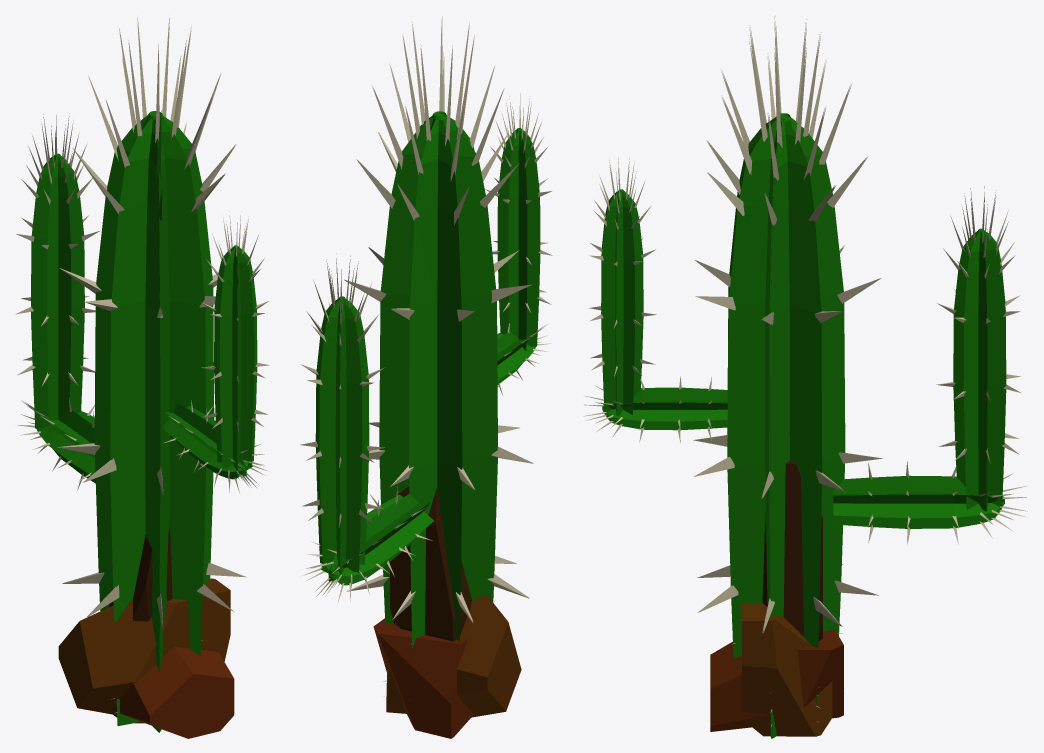
File: cactus.glb
3 views of the same model, side by side, from view 1: azimuth 30°, elevation 25°; view 2: azimuth 150°, elevation 25°; view 3: azimuth 270°, elevation 25° (orthographic).
Visible parts, largest first — view 1: cactus4, rock1, cactus3, rock2, rock3; view 2: cactus3, cactus4, rock2, rock1, rock3; view 3: cactus4, cactus3, rock1, rock2, rock3.
Boxes of the visible parts, left/top/right/bottom form: cactus4: left=15, top=18, right=269, bottom=732; rock1: left=58, top=578, right=230, bottom=715; cactus3: left=58, top=19, right=245, bottom=732; rock2: left=111, top=646, right=234, bottom=738; rock3: left=109, top=526, right=172, bottom=723; cactus3: left=344, top=19, right=532, bottom=682; cactus4: left=300, top=16, right=552, bottom=640; rock2: left=373, top=618, right=473, bottom=738; rock1: left=386, top=594, right=521, bottom=717; rock3: left=390, top=486, right=471, bottom=641; cactus4: left=583, top=16, right=1027, bottom=738; cactus3: left=695, top=15, right=882, bottom=738; rock1: left=742, top=603, right=832, bottom=736; rock2: left=710, top=629, right=843, bottom=731; rock3: left=762, top=461, right=822, bottom=640.
Size of the model in its own units: 3.61 by 14.05 by 8.24.
